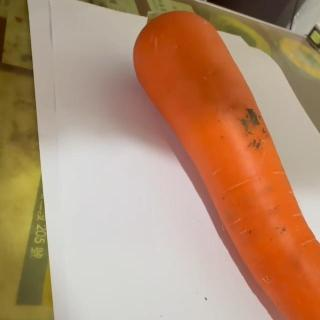carrot: (132, 9, 320, 320)
